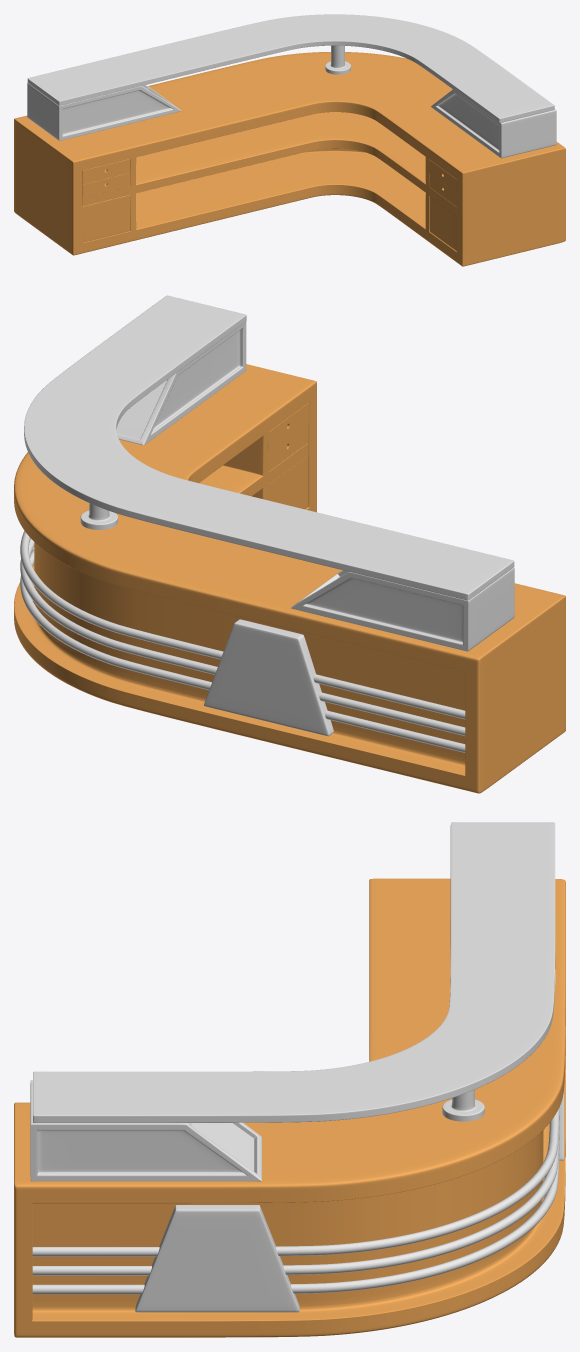
File: Reception_table.fbx
3 views of the same model, one above another, from view 1: azimuth 30°, elevation 25°; view 2: azimuth 150°, elevation 25°; view 3: azimuth 270°, elevation 25° (orthographic). The views are drawn at different scales.
Parts seen in each view (by area): view 1: Table; view 2: Table; view 3: Table.
Boxes of the visible parts, bbox=[...] form: Table: bbox=[14, 14, 565, 266]; Table: bbox=[14, 295, 565, 793]; Table: bbox=[14, 822, 565, 1337].
Bounding box in the file's own units: 851 × 283 × 647.
